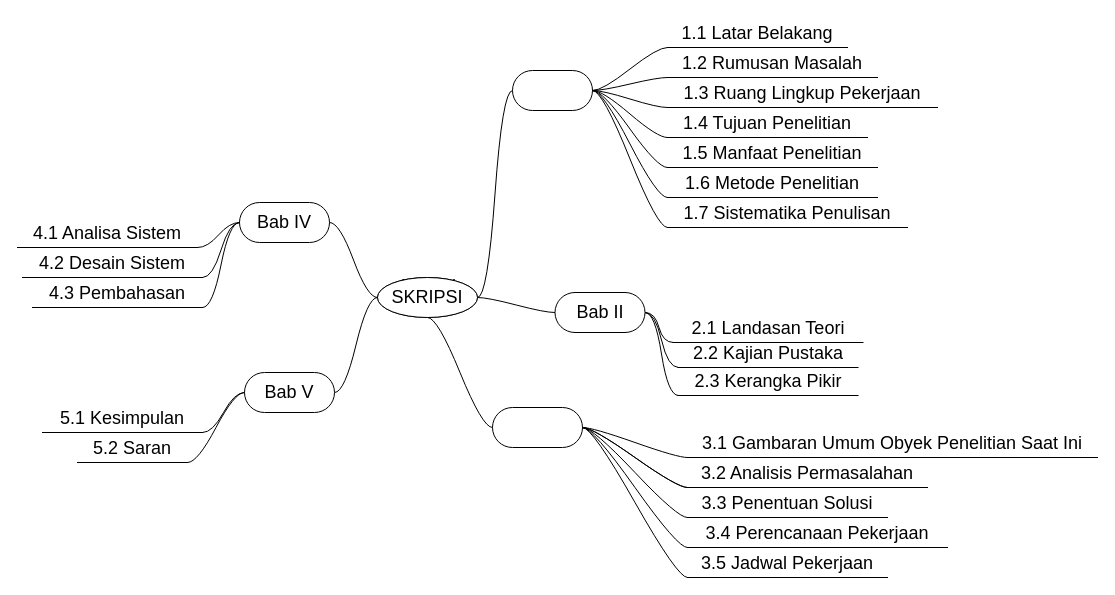
Some shapes in this 1115 by 595 pixel diagram are drawn without their labels. Here are the shapes that lost their labels. From the top down, the centre of each, then its label:
At point (552, 90): "Bab I".
At point (537, 427): "Bab III".
